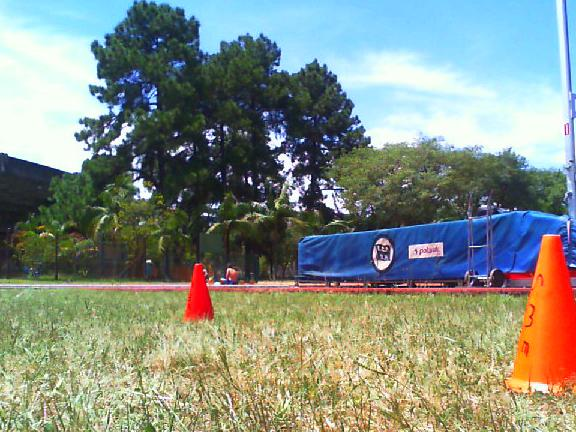0 cone: (506, 235, 576, 396), (184, 264, 214, 323)
